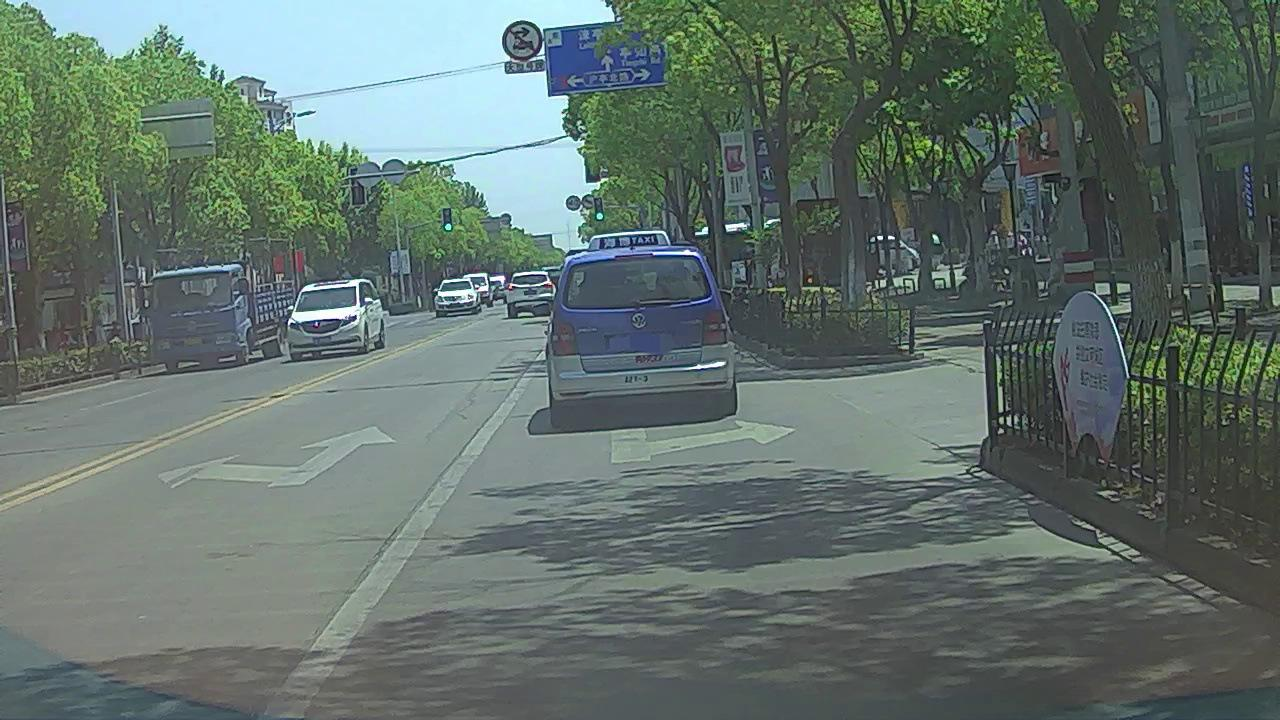traffic_light: (442, 207, 453, 233), (594, 197, 604, 222)
